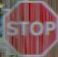Stop: (1, 0, 55, 49)
